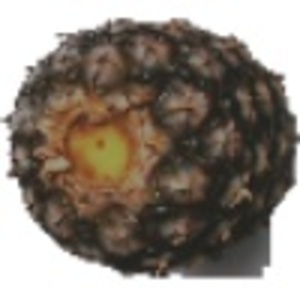abacaxi: (1, 18, 297, 275)
